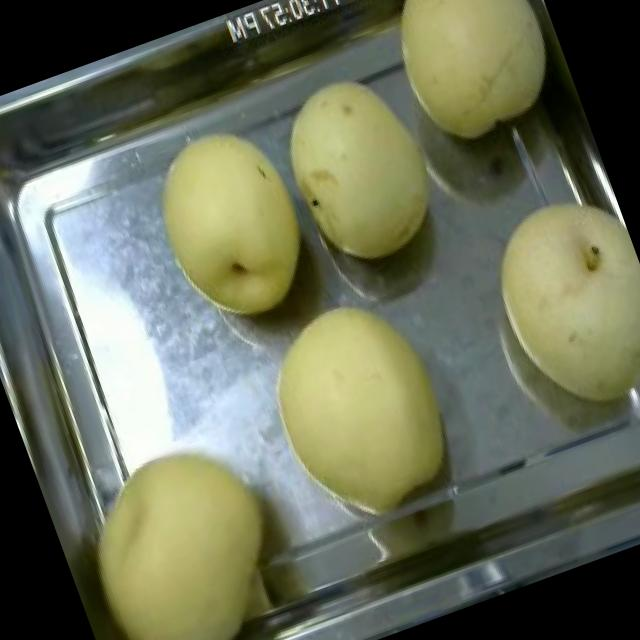Fruit: (237, 269, 485, 544), (42, 414, 323, 640), (260, 38, 470, 290), (124, 103, 338, 350), (454, 166, 640, 440), (355, 0, 583, 165)
